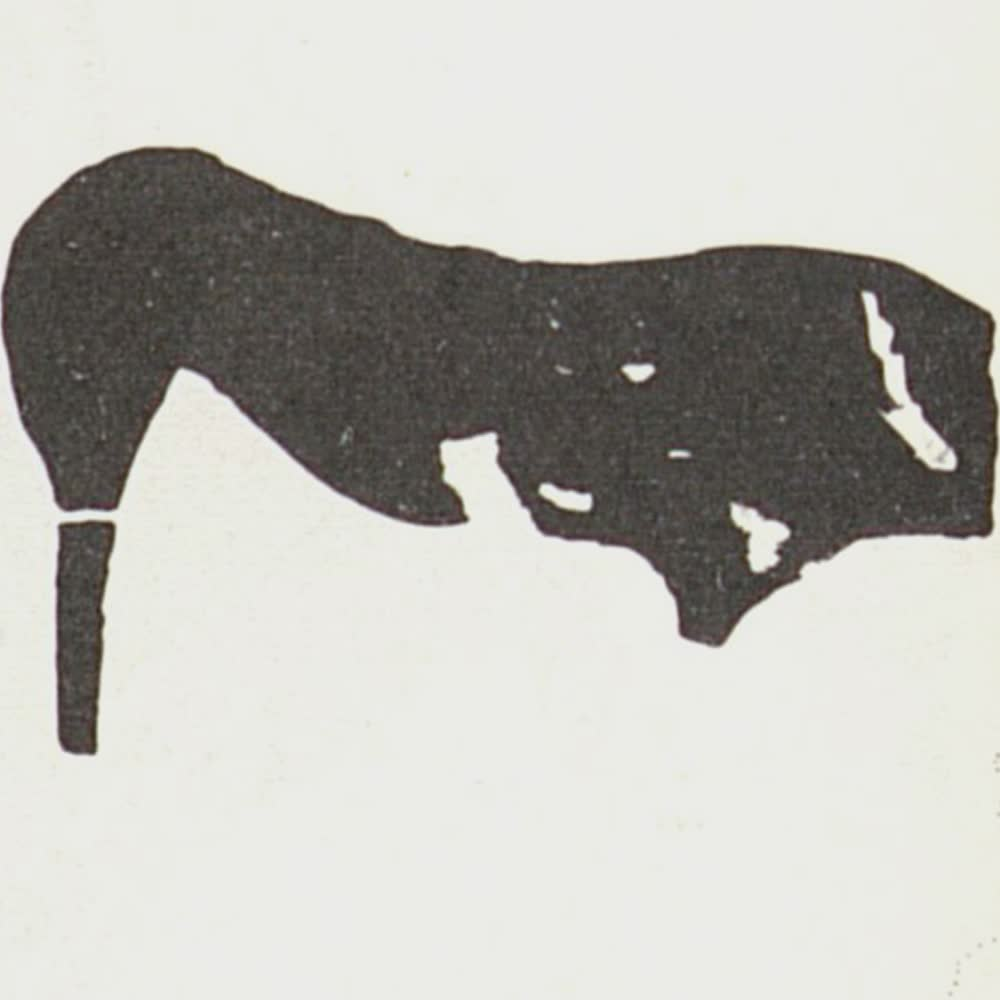animal: (4, 143, 1000, 756)
